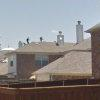Chimney: (69, 19, 86, 44)
